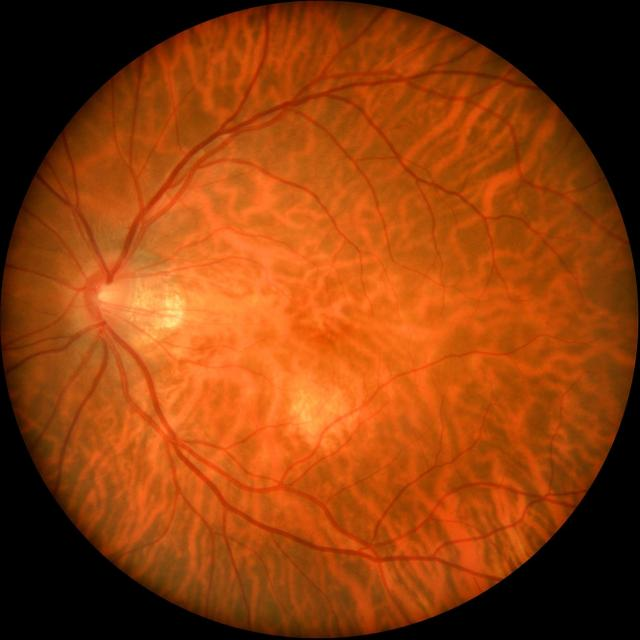OC: (96, 285, 115, 310)
OD: (84, 261, 132, 326)
